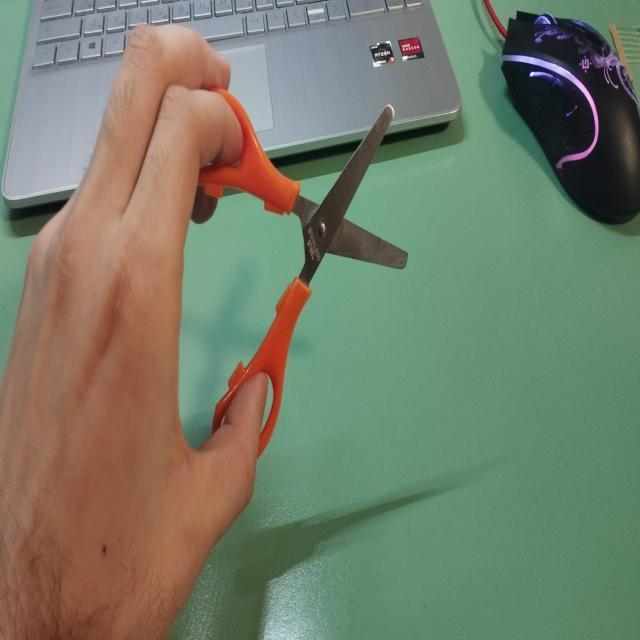scissors: (188, 75, 414, 466)
